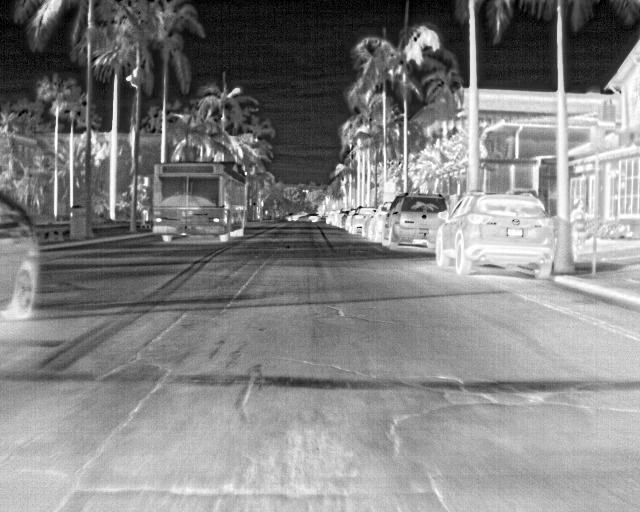car: (434, 189, 554, 281), (0, 190, 44, 323), (381, 191, 447, 251), (366, 202, 394, 240), (348, 204, 374, 234), (338, 207, 353, 228), (324, 207, 338, 227), (305, 210, 319, 224), (285, 211, 300, 223)
